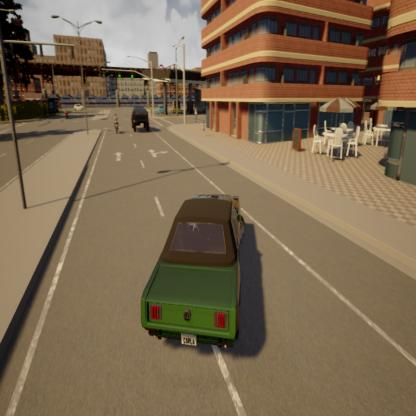Cars: (139, 195, 244, 349), (132, 102, 149, 134), (112, 112, 121, 138), (156, 102, 163, 114)
Pedestrian: (201, 122, 208, 136), (194, 105, 198, 120)
